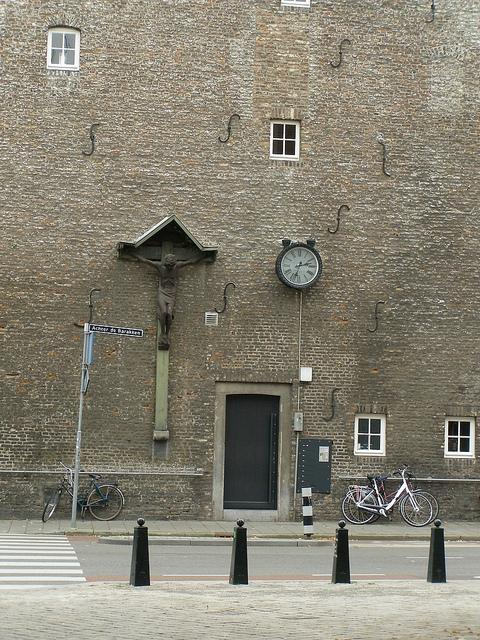bicycle: (342, 464, 433, 526), (42, 460, 125, 522), (378, 465, 440, 526)
